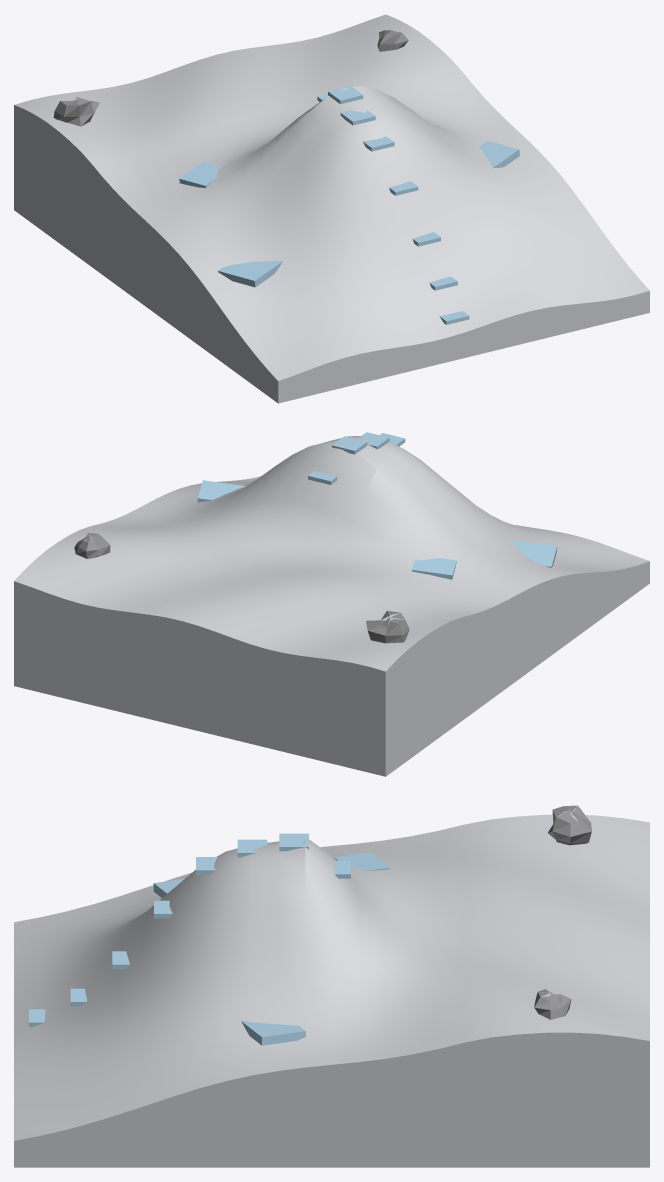
Rendered from backcountry-snowboarding-and-avalanche-safety-natural--2c5b1bf6__18947.glb.
The picture shows the model from 3 angles, top to bottom: view 1: azimuth 30°, elevation 25°; view 2: azimuth 150°, elevation 25°; view 3: azimuth 270°, elevation 25°; orthographic projection. The views are drawn at different scales.
Parts seen in each view (by area): view 1: natural-kicker-mound; view 2: natural-kicker-mound; view 3: natural-kicker-mound.
Part boxes in pixels (x1=…): natural-kicker-mound: x1=14, y1=14, x2=649, y2=403; natural-kicker-mound: x1=14, y1=432, x2=649, y2=776; natural-kicker-mound: x1=14, y1=805, x2=649, y2=1167.
Bounding box in the file's own units: 5.2 × 2.42 × 6.4.
